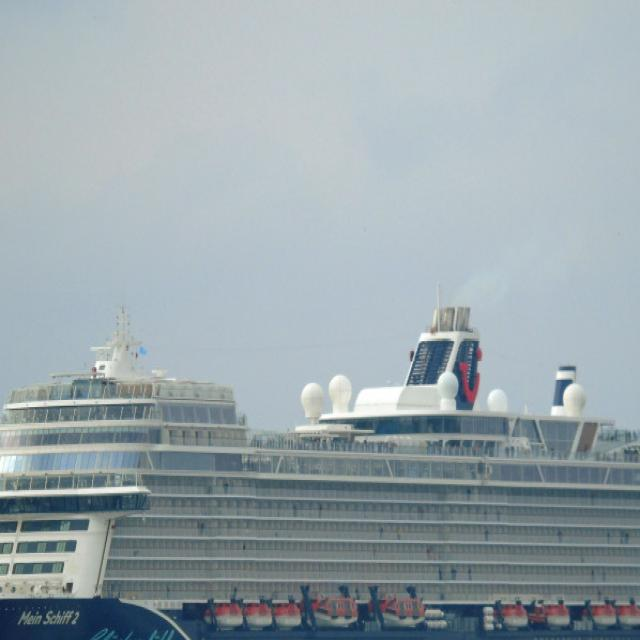cruises: (1, 296, 640, 640)
